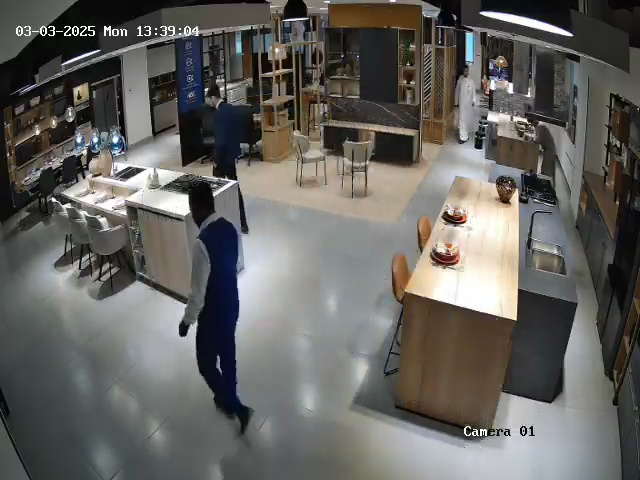employee: (178, 181, 254, 433), (206, 84, 250, 234)
male: (455, 65, 477, 144)
